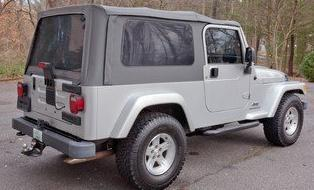SUV: (13, 6, 307, 190)
